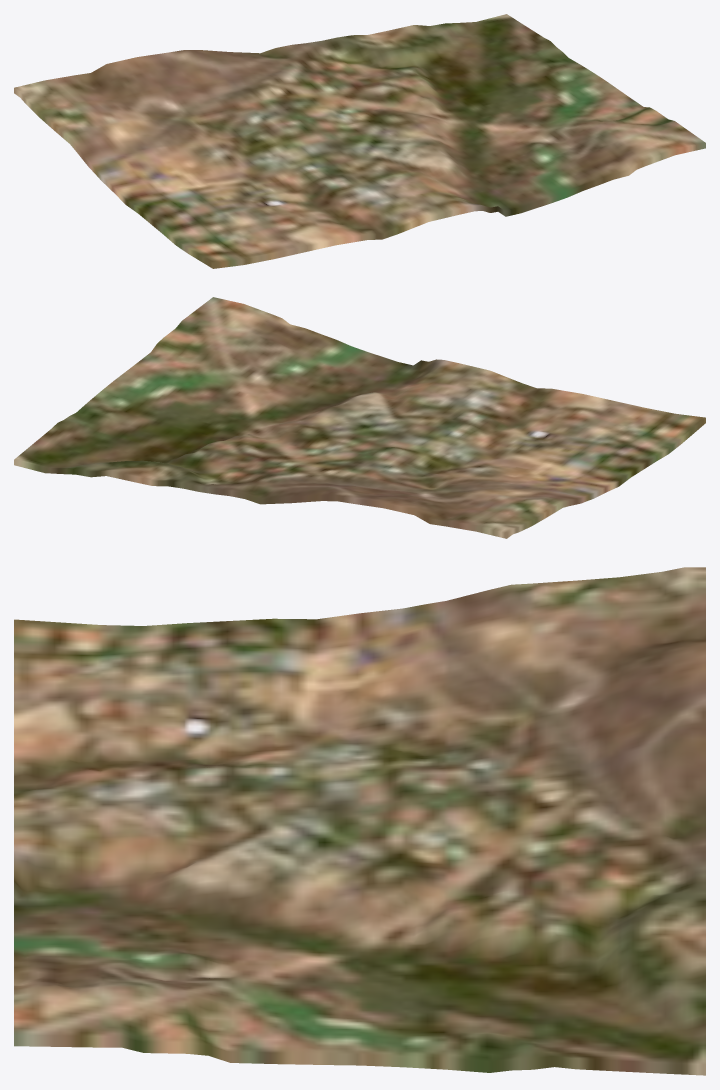
Rendered from terrain_r1_c0_lod2.glb.
The picture shows the model from 3 angles, top to bottom: view 1: azimuth 30°, elevation 25°; view 2: azimuth 150°, elevation 25°; view 3: azimuth 270°, elevation 25°; orthographic projection. The views are drawn at different scales.
Parts seen in each view (by area): view 1: terrain_r1_c0_lod2; view 2: terrain_r1_c0_lod2; view 3: terrain_r1_c0_lod2.
Boxes of the visible parts, x1,y1,x2,y2 form: terrain_r1_c0_lod2: [14, 14, 705, 268]; terrain_r1_c0_lod2: [14, 297, 705, 538]; terrain_r1_c0_lod2: [14, 567, 705, 1075].
Bounding box in the file's own units: 1125 × 122 × 787.
Materials: 1 (1 with a texture image).
